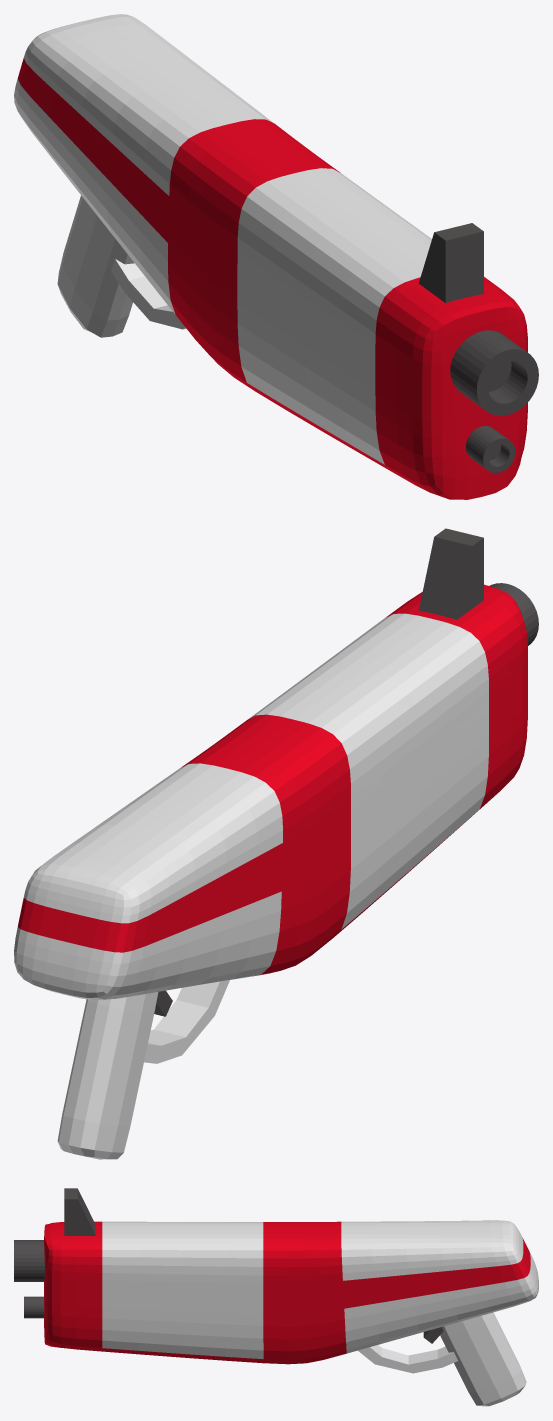
File: Gun1.fbx
3 renders of one model, top to bottom at view 1: azimuth 30°, elevation 25°; view 2: azimuth 150°, elevation 25°; view 3: azimuth 270°, elevation 25°, orthographic. The views are drawn at different scales.
Parts seen in each view (by area): view 1: Cube, Cube.001, Cylinder.002, Cube.002, Cube.003, Cylinder.003; view 2: Cube, Cube.001, Cube.002, Cube.003, Cylinder.002; view 3: Cube, Cube.001, Cube.003, Cylinder.002, Cube.002, Cylinder.003.
Part boxes in pixels (left/top/right/bottom): Cube: left=14, top=14, right=527, bottom=499; Cube.001: left=57, top=195, right=134, bottom=337; Cylinder.002: left=450, top=330, right=538, bottom=415; Cube.002: left=418, top=223, right=483, bottom=303; Cube.003: left=111, top=259, right=185, bottom=329; Cylinder.003: left=466, top=426, right=515, bottom=472; Cube: left=14, top=584, right=527, bottom=1000; Cube.001: left=57, top=992, right=158, bottom=1159; Cube.002: left=418, top=528, right=483, bottom=619; Cube.003: left=144, top=980, right=229, bottom=1063; Cylinder.002: left=490, top=583, right=538, bottom=645; Cube: left=44, top=1220, right=538, bottom=1364; Cube.001: left=440, top=1312, right=526, bottom=1406; Cube.003: left=358, top=1345, right=457, bottom=1373; Cylinder.002: left=14, top=1240, right=44, bottom=1281; Cube.002: left=64, top=1188, right=95, bottom=1235; Cylinder.003: left=24, top=1296, right=44, bottom=1318.
Bounding box in the file's own units: 10.46 × 31.67 × 71.75.
